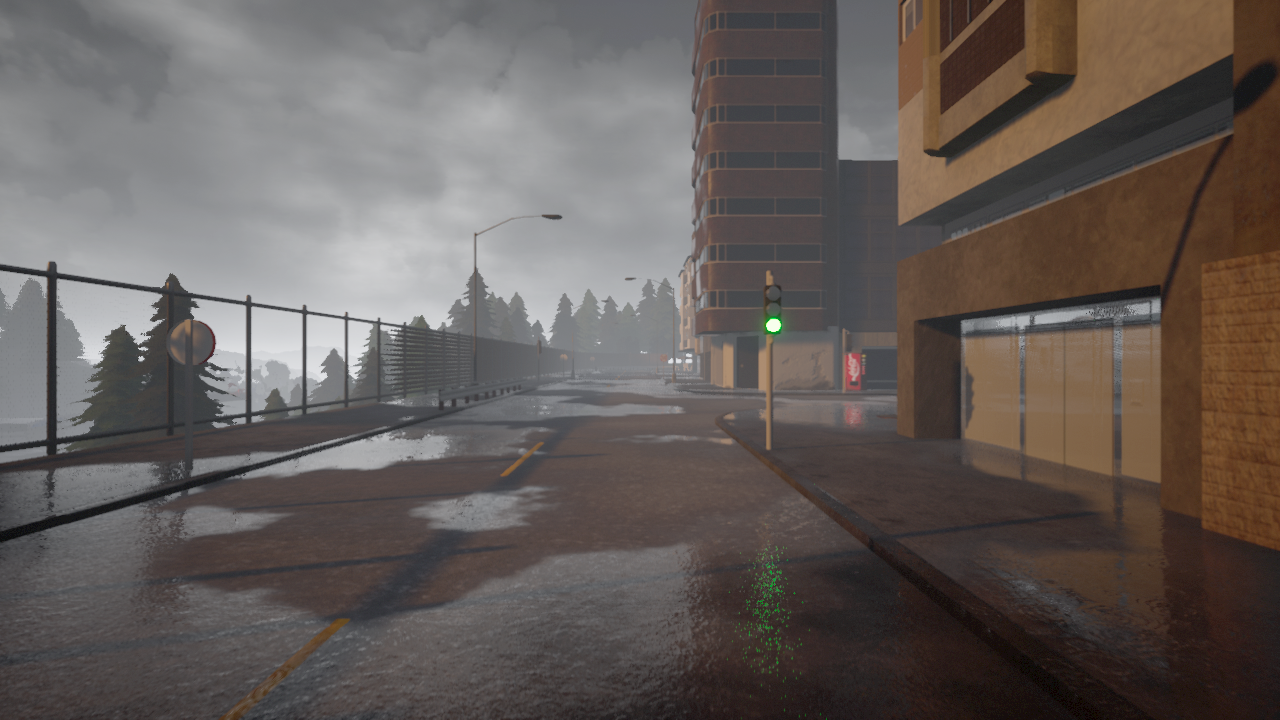green: (763, 283, 782, 333)
